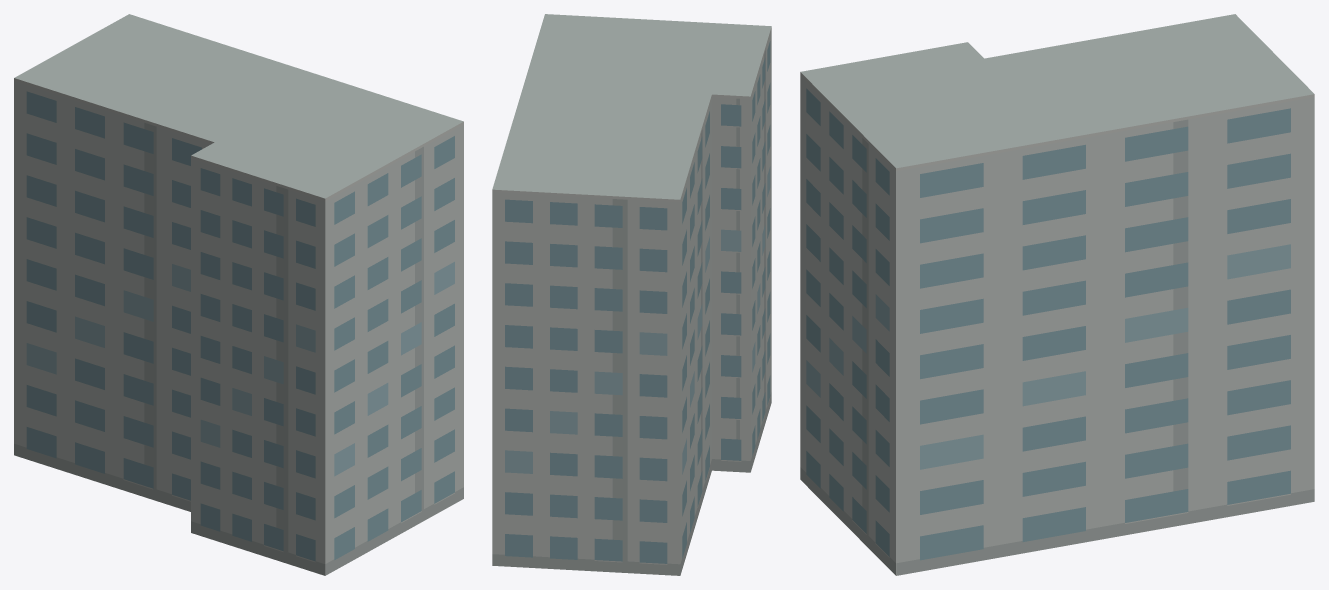
Rendered from residential-4b451654-d9cb-44f6-89a4-16d542dc261b.glb.
The picture shows the model from 3 angles, left to right: view 1: azimuth 30°, elevation 25°; view 2: azimuth 150°, elevation 25°; view 3: azimuth 270°, elevation 25°; orthographic projection. The views are drawn at different scales.
Parts seen in each view (by area): view 1: residential-4b451654-d9cb-44f6-89a4-16d542dc261b.tmp; view 2: residential-4b451654-d9cb-44f6-89a4-16d542dc261b.tmp; view 3: residential-4b451654-d9cb-44f6-89a4-16d542dc261b.tmp.
Part boxes in pixels (x1=…): residential-4b451654-d9cb-44f6-89a4-16d542dc261b.tmp: x1=14, y1=14, x2=463, y2=575; residential-4b451654-d9cb-44f6-89a4-16d542dc261b.tmp: x1=492, y1=14, x2=771, y2=575; residential-4b451654-d9cb-44f6-89a4-16d542dc261b.tmp: x1=800, y1=14, x2=1314, y2=575.
Size of the model in its own units: 26.81 by 33 by 37.76.
